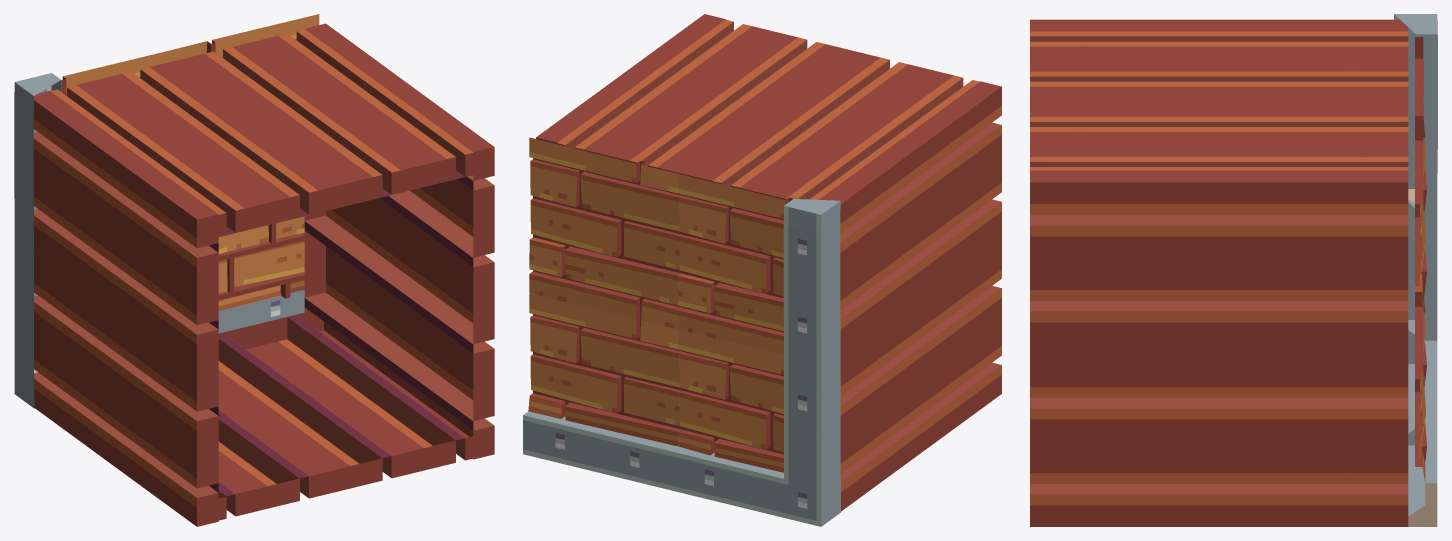
Rendered from CornerBRKayu.fbx.
3 views of the same model, side by side, from view 1: azimuth 30°, elevation 25°; view 2: azimuth 150°, elevation 25°; view 3: azimuth 270°, elevation 25° (orthographic). The views are drawn at different scales.
Parts seen in each view (by area): view 1: CornerBRKayu; view 2: CornerBRKayu; view 3: CornerBRKayu.
Boxes of the visible parts, x1,y1,x2,y2 form: CornerBRKayu: [14, 14, 494, 526]; CornerBRKayu: [523, 14, 1001, 526]; CornerBRKayu: [1030, 14, 1437, 526].
Size of the model in its own units: 94.81 by 94.81 by 100.
